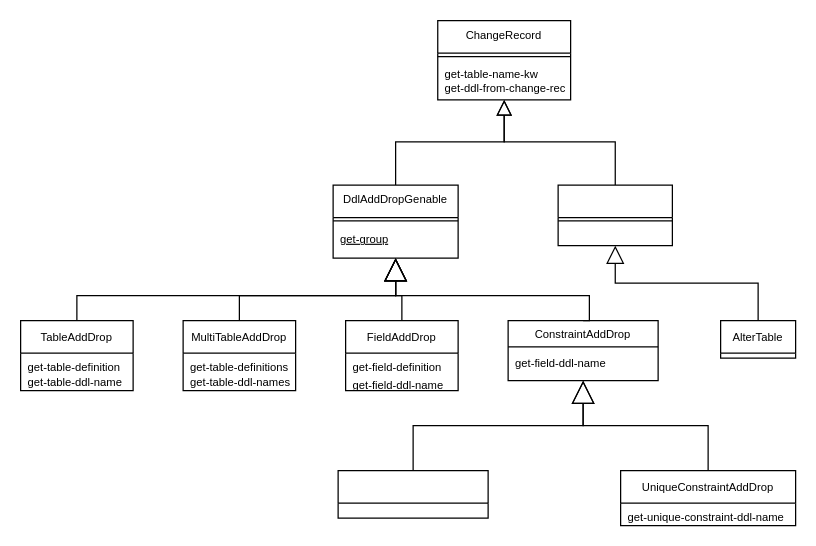
Some shapes in this 816 by 546 pixel diagram are drawn without their labels. The shapes that lost their labels are listed below. From the top down, each one's centre as x and y in pixels, then its label:
At pixel 614 215: "OtherDdlGenable".
At pixel 412 493: "NotNullConstraintAddDrop".
